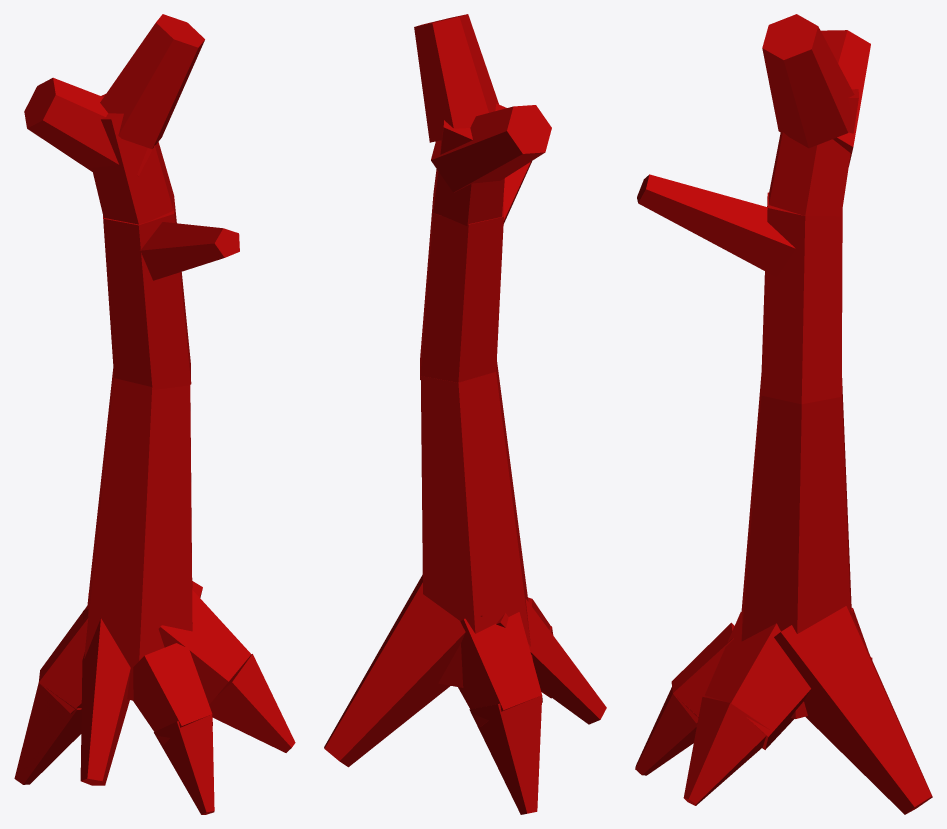
File: SM_Env_Tree_Forest_03_Collision.gltf
3 renders of one model, left to right at view 1: azimuth 30°, elevation 25°; view 2: azimuth 150°, elevation 25°; view 3: azimuth 270°, elevation 25°, orthographic. The views are drawn at different scales.
Parts seen in each view (by area): view 1: SM_Env_Tree_Forest_03_Collision; view 2: SM_Env_Tree_Forest_03_Collision; view 3: SM_Env_Tree_Forest_03_Collision.
Boxes of the visible parts, left/top/right/bottom form: SM_Env_Tree_Forest_03_Collision: left=14, top=14, right=295, bottom=814; SM_Env_Tree_Forest_03_Collision: left=324, top=14, right=606, bottom=814; SM_Env_Tree_Forest_03_Collision: left=635, top=14, right=932, bottom=814.
Bounding box in the file's own units: 1.8 × 6.57 × 2.22.
